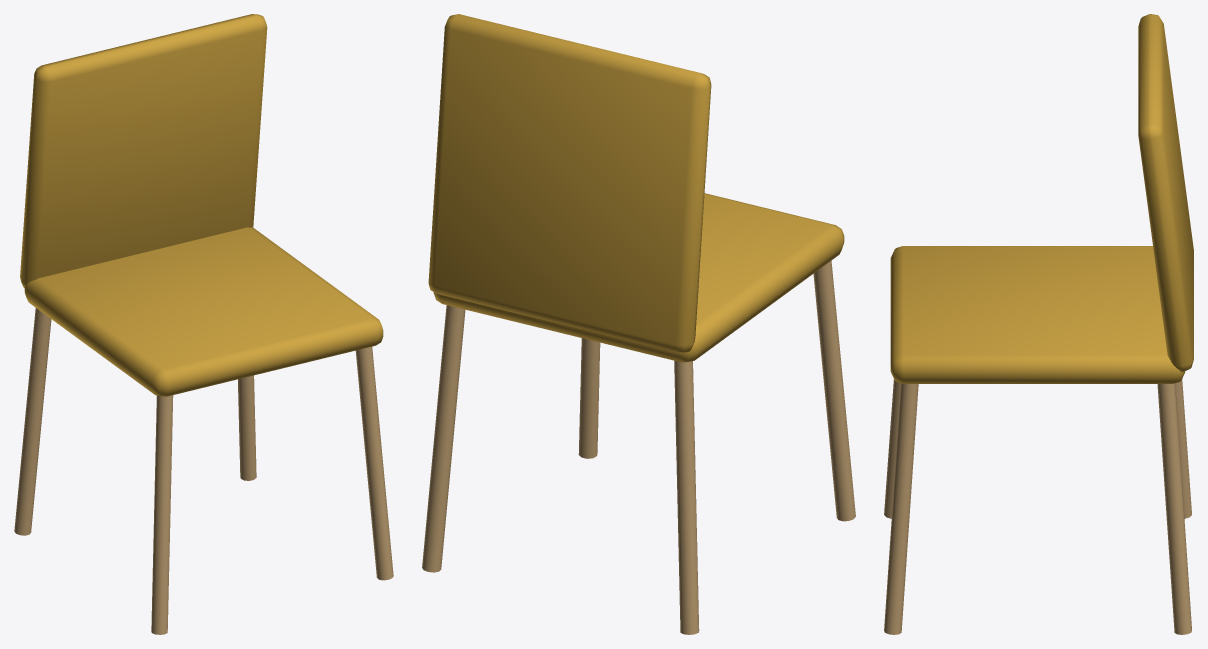
The model's file is i_chair_8.glb.
The picture shows the model from 3 angles, left to right: view 1: azimuth 30°, elevation 25°; view 2: azimuth 150°, elevation 25°; view 3: azimuth 270°, elevation 25°; orthographic projection. The views are drawn at different scales.
Visible parts, largest first — view 1: o.005, o.004, o.002, o, o.001, o.003; view 2: o.005, o.004, o.003, o.001, o, o.002; view 3: o.004, o.005, o.002, o.003, o, o.001.
Part boxes in pixels (bbox=[...]): o.005: bbox=[20, 14, 267, 287]; o.004: bbox=[24, 227, 383, 396]; o.002: bbox=[355, 346, 393, 580]; o: bbox=[151, 395, 173, 634]; o.001: bbox=[14, 308, 51, 535]; o.003: bbox=[238, 375, 256, 480]; o.005: bbox=[428, 14, 711, 353]; o.004: bbox=[433, 193, 844, 362]; o.003: bbox=[422, 305, 465, 572]; o.001: bbox=[674, 360, 699, 634]; o: bbox=[813, 260, 855, 521]; o.002: bbox=[578, 338, 600, 458]; o.004: bbox=[890, 246, 1185, 383]; o.005: bbox=[1138, 14, 1193, 371]; o.002: bbox=[884, 383, 918, 634]; o.003: bbox=[1157, 383, 1191, 634]; o: bbox=[884, 379, 900, 518]; o.001: bbox=[1175, 379, 1191, 518].
Bounding box in the file's own units: 0.4597 × 0.8699 × 0.484.
